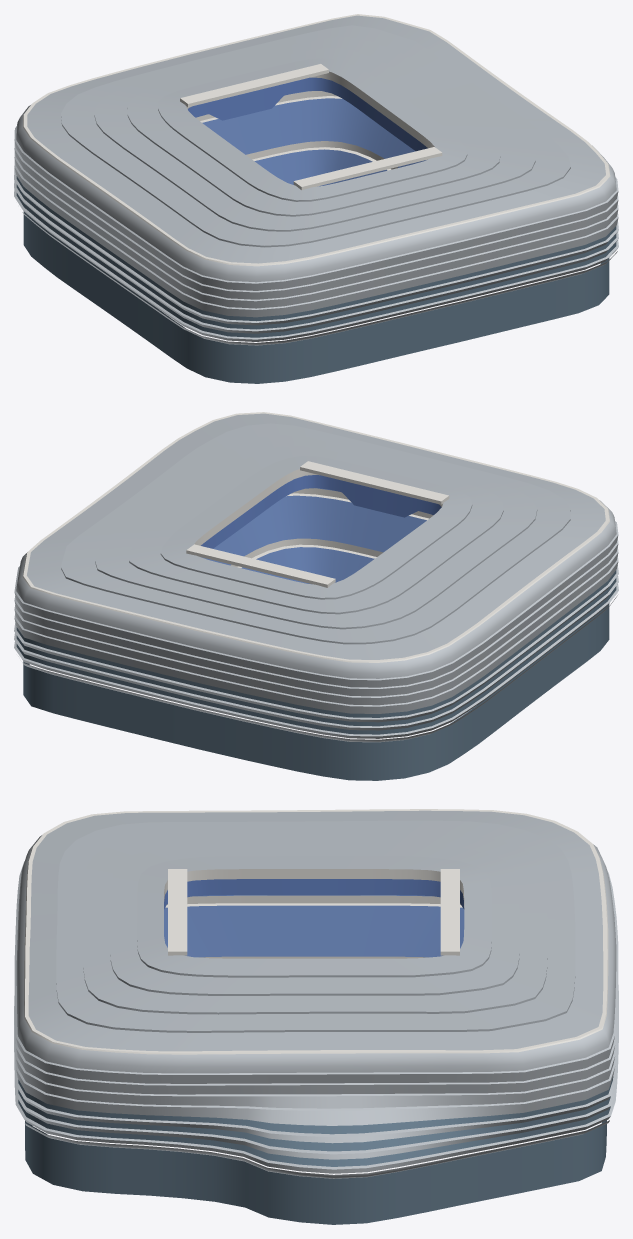
The model's file is madrid-santiago-bernabeu.glb.
3 views of the same model, one above another, from view 1: azimuth 30°, elevation 25°; view 2: azimuth 150°, elevation 25°; view 3: azimuth 270°, elevation 25° (orthographic). The views are drawn at different scales.
Visible parts, largest first — view 1: Estadio Santiago Bernabéu; view 2: Estadio Santiago Bernabéu; view 3: Estadio Santiago Bernabéu.
Part boxes in pixels (x1,y1,x2,y2): Estadio Santiago Bernabéu: (14, 14, 618, 383); Estadio Santiago Bernabéu: (14, 412, 618, 780); Estadio Santiago Bernabéu: (14, 809, 618, 1224).
Size of the model in its own units: 242 by 65.4 by 220.
